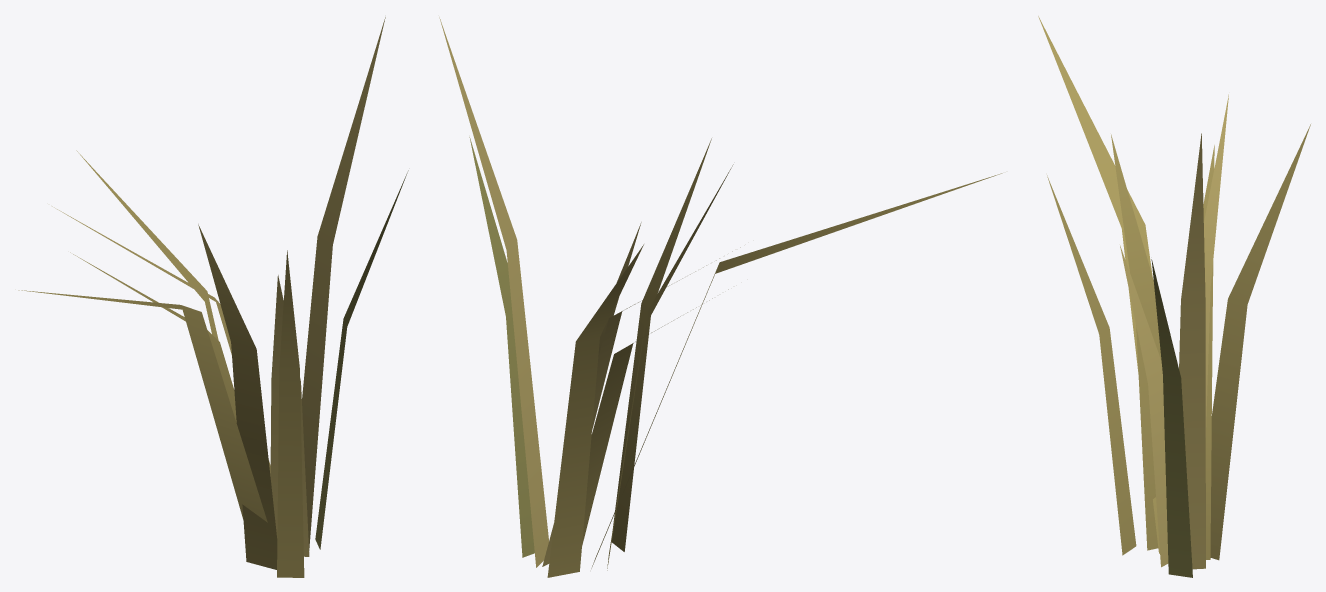
File: grass_dry_2.fbx
3 views of the same model, side by side, from view 1: azimuth 30°, elevation 25°; view 2: azimuth 150°, elevation 25°; view 3: azimuth 270°, elevation 25° (orthographic). The views are drawn at different scales.
Visible parts, largest first — view 1: grass_dry_2; view 2: grass_dry_2; view 3: grass_dry_2.
Part boxes in pixels (x1,y1,x2,y2): grass_dry_2: (18,17,408,577); grass_dry_2: (439,17,1002,577); grass_dry_2: (1038,16,1310,577).
Bounding box in the file's own units: 0.2626 × 0.276 × 0.1422.
